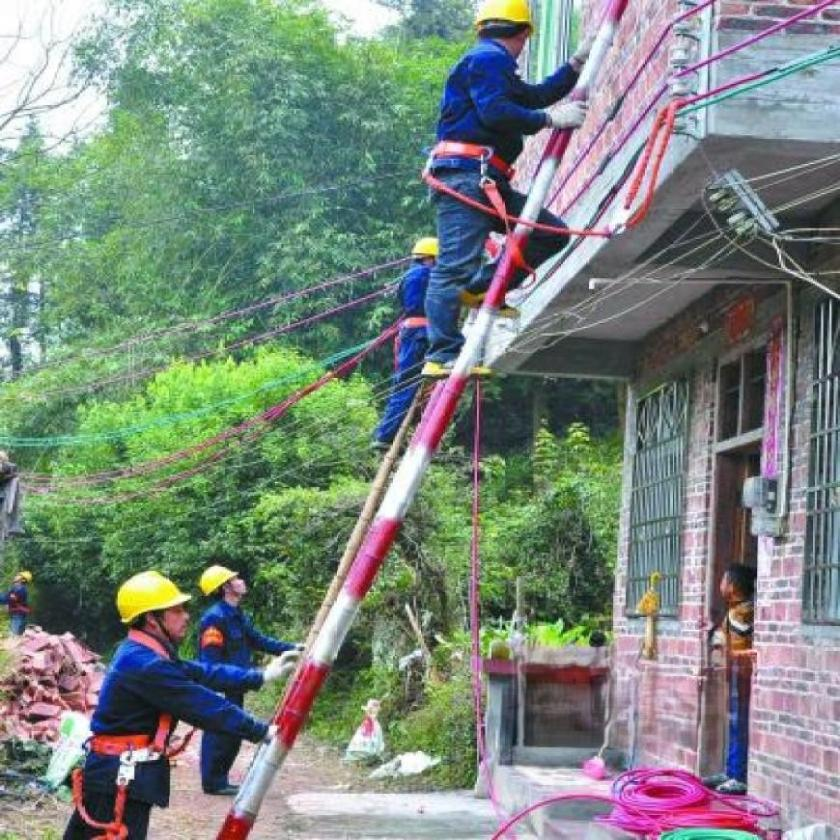Con_casco: (118, 574, 194, 647), (476, 0, 534, 73), (202, 561, 252, 606), (409, 235, 444, 272)
Sin_casco: (711, 546, 758, 614)
